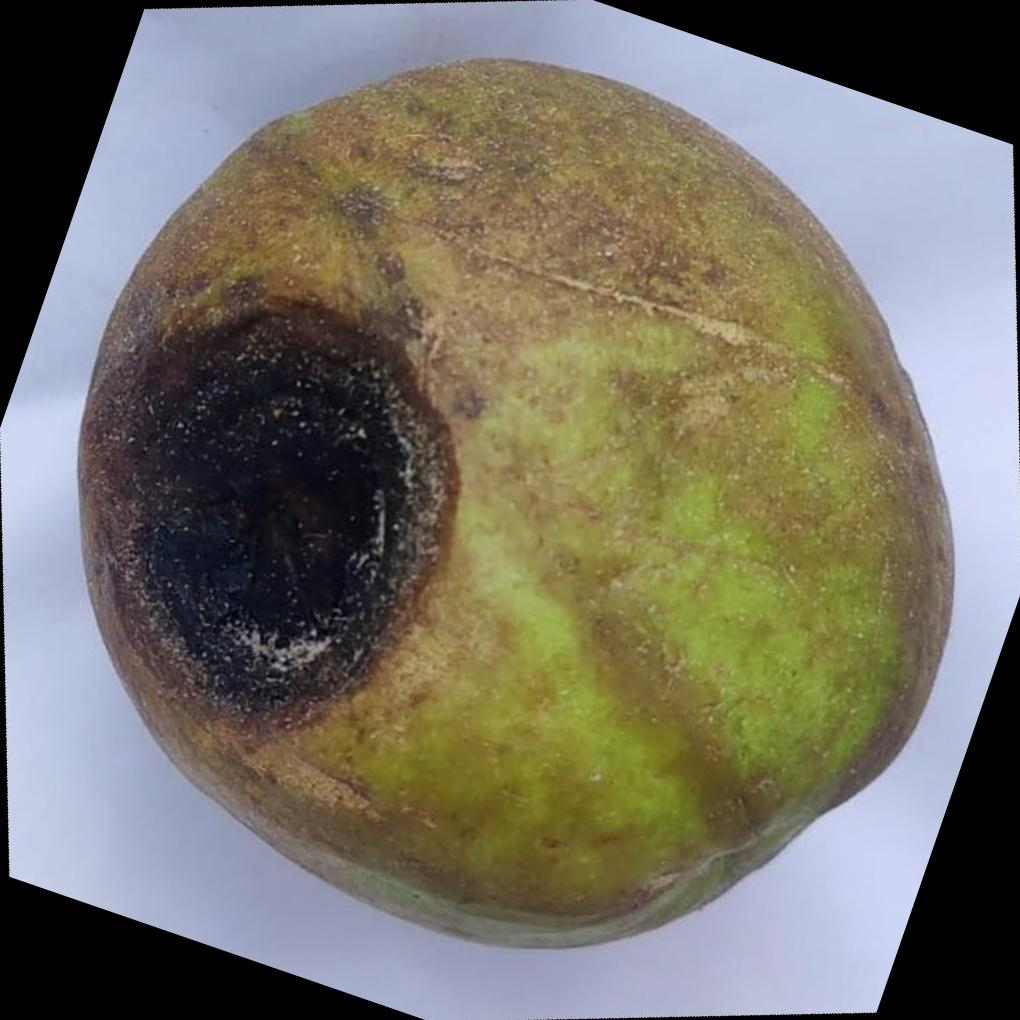FreshOrange: (77, 51, 957, 949)
